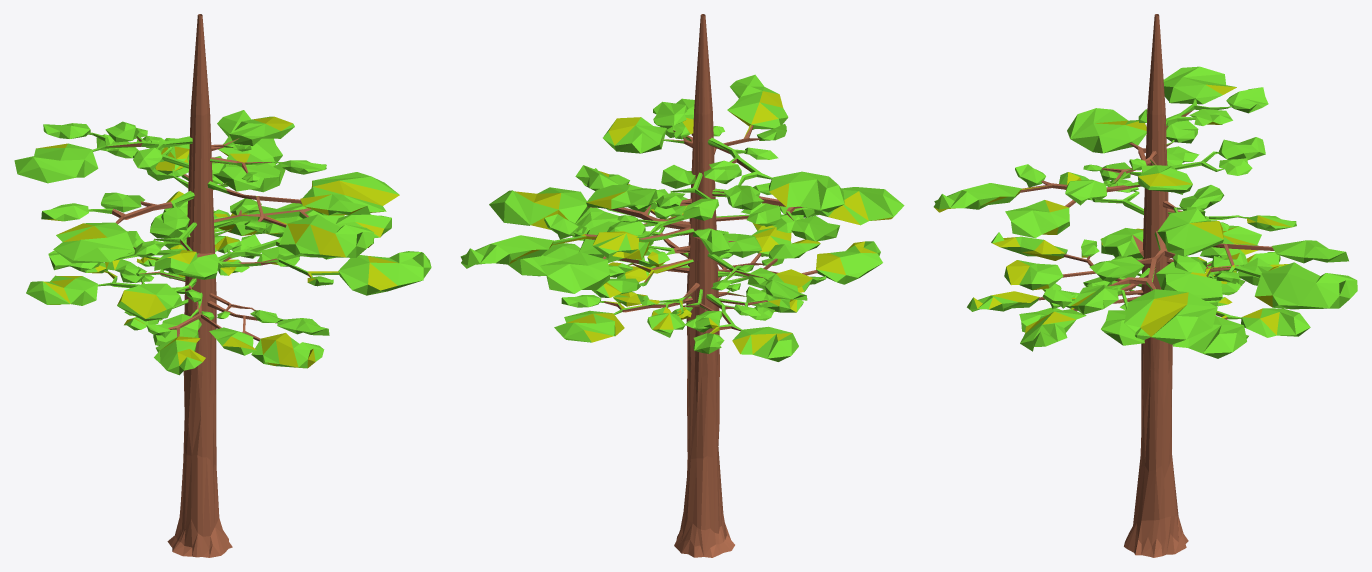
File: redwood.obj
The picture shows the model from 3 angles, left to right: view 1: azimuth 30°, elevation 25°; view 2: azimuth 150°, elevation 25°; view 3: azimuth 270°, elevation 25°; orthographic projection.
Visible parts, largest first — view 1: hand_:Redwood; view 2: hand_:Redwood; view 3: hand_:Redwood.
Boxes of the visible parts, x1,y1,x2,y2 form: hand_:Redwood: (14, 14, 431, 557); hand_:Redwood: (460, 14, 904, 557); hand_:Redwood: (933, 14, 1357, 557).
Bounding box in the file's own units: 4.1 × 5.64 × 4.09.
